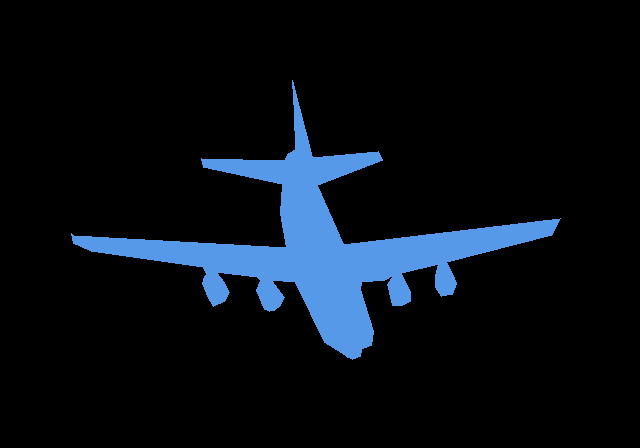Airplane: (71, 80, 560, 359)
